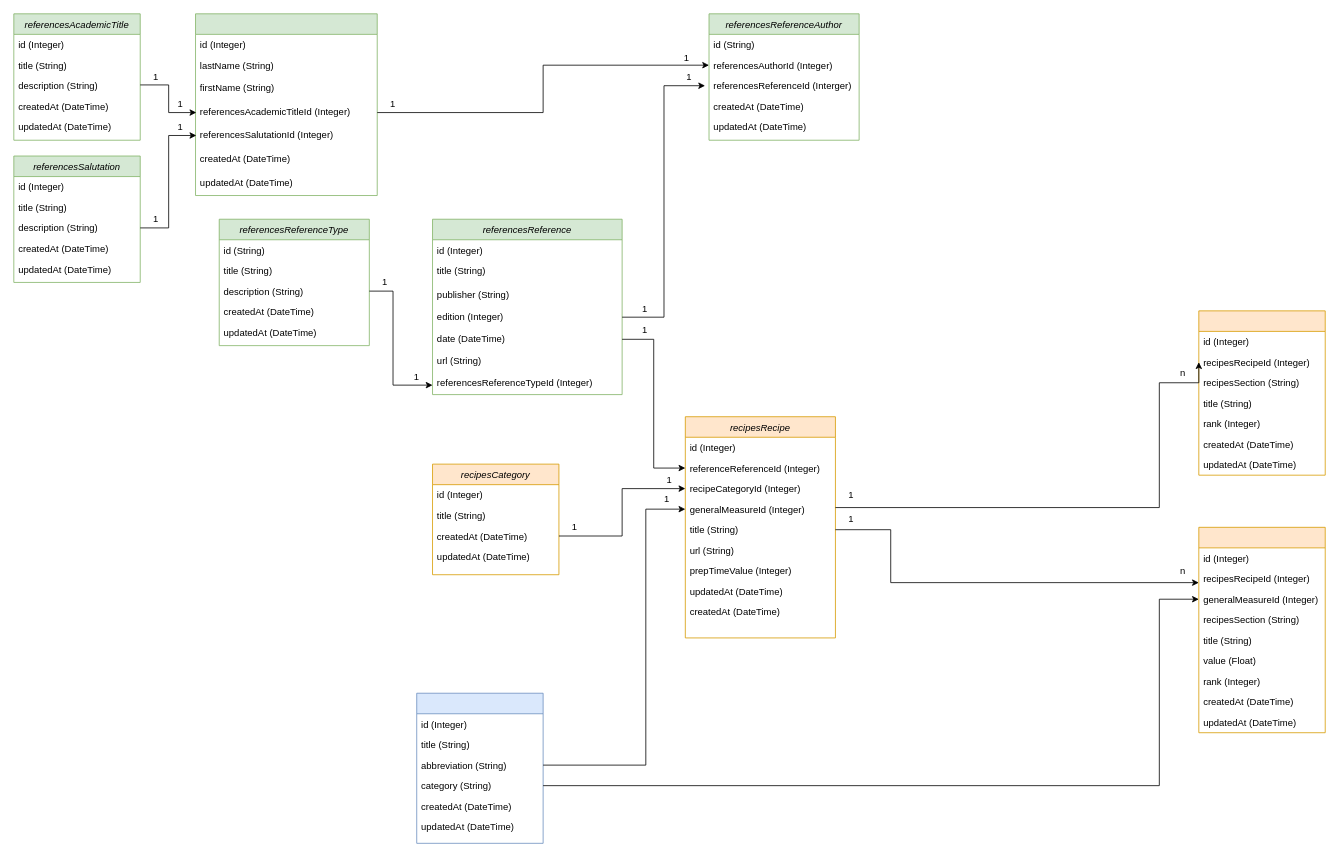
Image size: 1339x857. Some labels were removed from this diagram. Each missing label, with the box of its shape:
generalMeasure: (416, 692, 543, 843)
recipesIngredient: (1198, 527, 1325, 733)
recipesPrepStep: (1198, 310, 1325, 475)
referencesAuthor: (195, 13, 377, 196)
